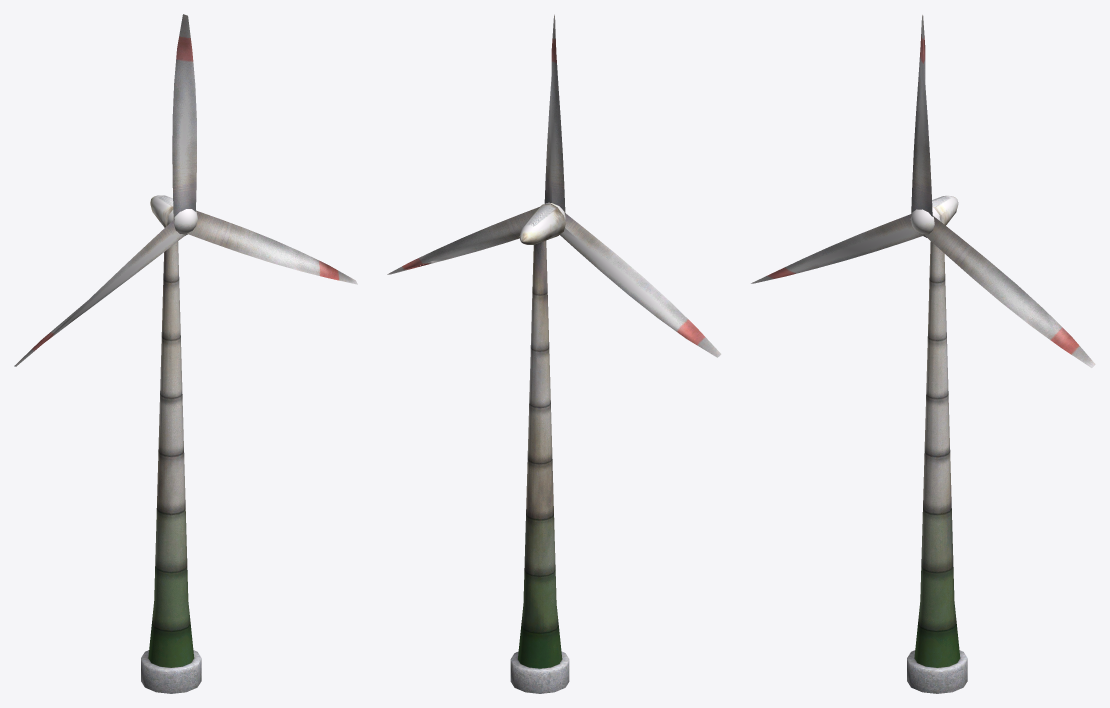
Rendered from Windmill.gltf.
3 renders of one model, left to right at view 1: azimuth 30°, elevation 25°; view 2: azimuth 150°, elevation 25°; view 3: azimuth 330°, elevation 25°, orthographic. The views are drawn at different scales.
Visible parts, largest first — view 1: Windmill_LowPoly, Windmill_Wings; view 2: Windmill_LowPoly, Windmill_Wings; view 3: Windmill_LowPoly, Windmill_Wings.
Boxes of the visible parts, box(x1,y1,x2,y2) form: Windmill_LowPoly: box(141, 195, 201, 693); Windmill_Wings: box(14, 14, 357, 366); Windmill_LowPoly: box(510, 204, 569, 693); Windmill_Wings: box(387, 14, 721, 357); Windmill_LowPoly: box(907, 195, 967, 693); Windmill_Wings: box(751, 15, 1095, 367).
Bounding box in the file's own units: 46.34 × 87.43 × 8.89.
Materials: 1 (1 with a texture image).
